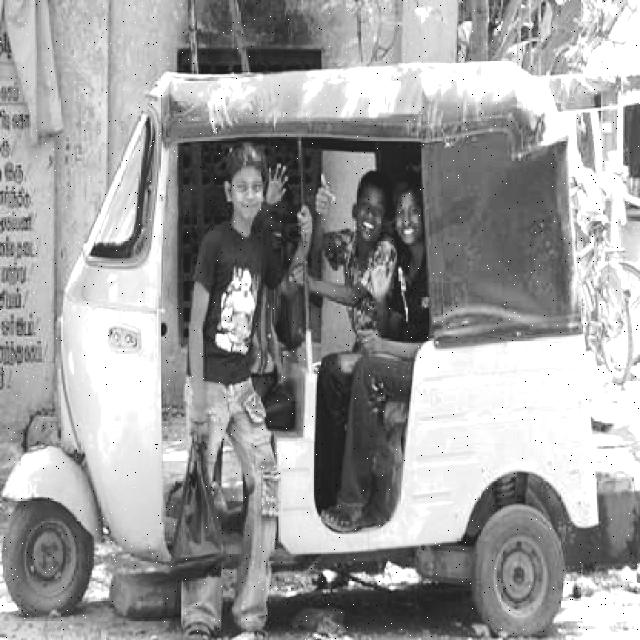Auto-Rickshaw: (0, 64, 598, 638)
